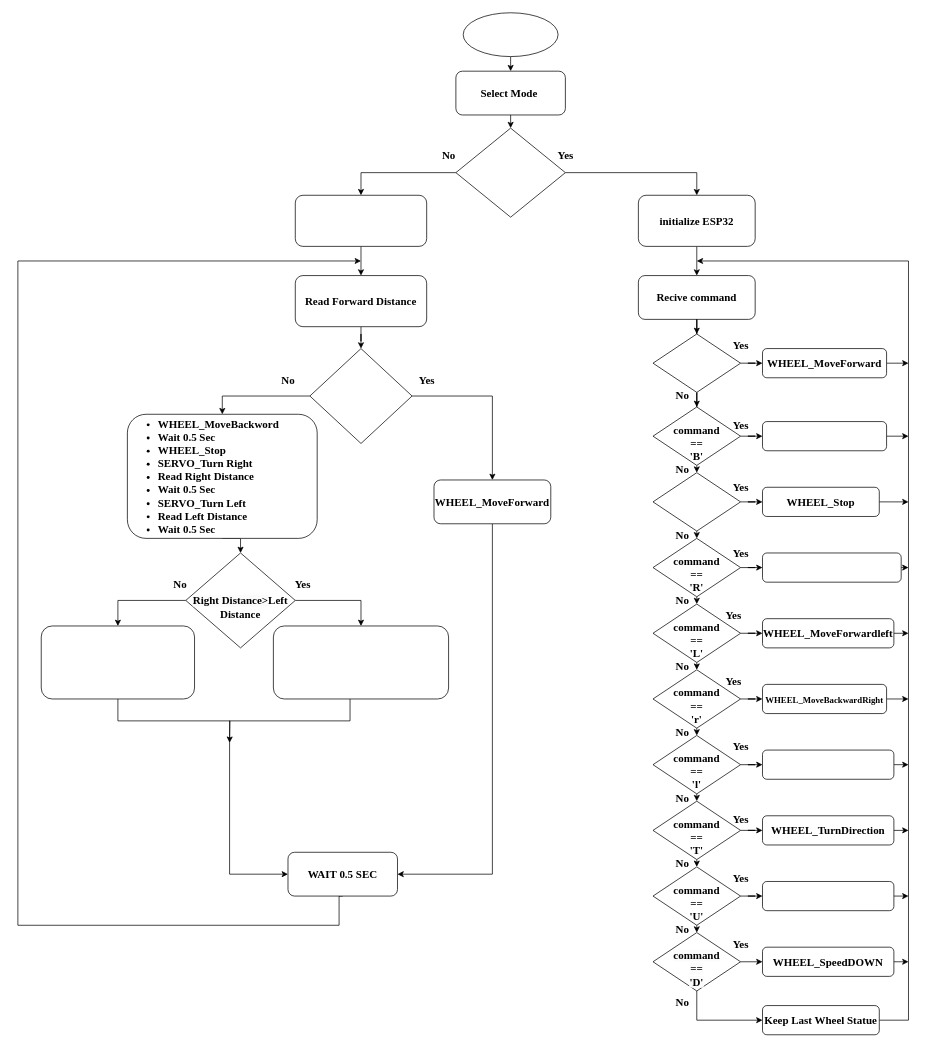
Image size: 927x1048. Some labels were removed from this diagram. The shapes that lost their labels are listed below. From the top down, each one's box as (x1, y1, x2, y2) in pixels, then its label:
(462, 12, 558, 57): Start
(455, 127, 565, 217): MANUAL MODE?
(295, 195, 427, 246): initialize Ultrasonic initialize Servo
(652, 333, 741, 392): command == 'F'
(309, 348, 412, 443): Forward Distance>30CM
(762, 421, 887, 451): WHEEL_MoveBackward
(652, 472, 741, 531): command == 'S'
(762, 552, 901, 582): WHEEL_MoveForwardRight
(41, 625, 195, 699): Servo back to Forward WHEEL_MoveForwardLeft Wait 0.5 Sec WHEEL_Stop
(273, 625, 449, 699): Servo back to Forward WHEEL_MoveForwardRight Wait 0.5 Sec WHEEL_Stop
(762, 749, 894, 779): WHEEL_MoveBackwardleft
(762, 881, 894, 911): WHEEL_SpeedUP
